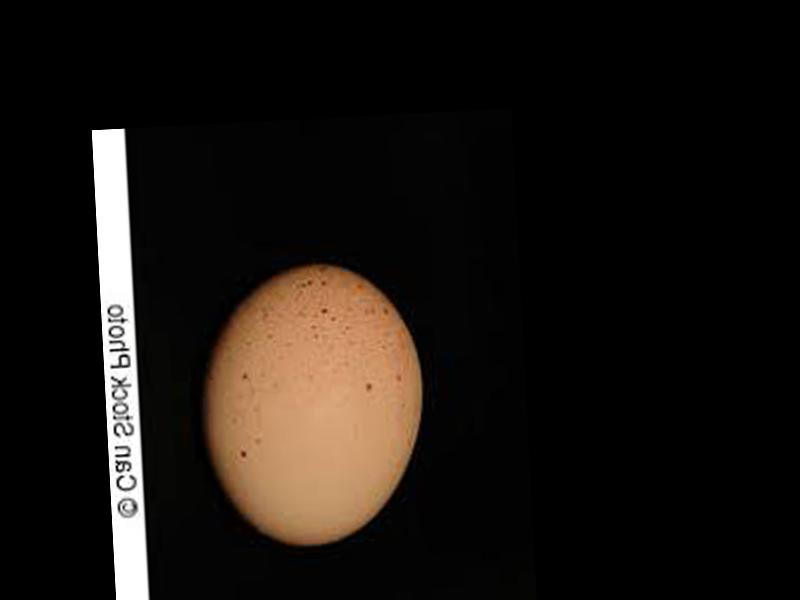Eggs: (193, 261, 429, 551)
